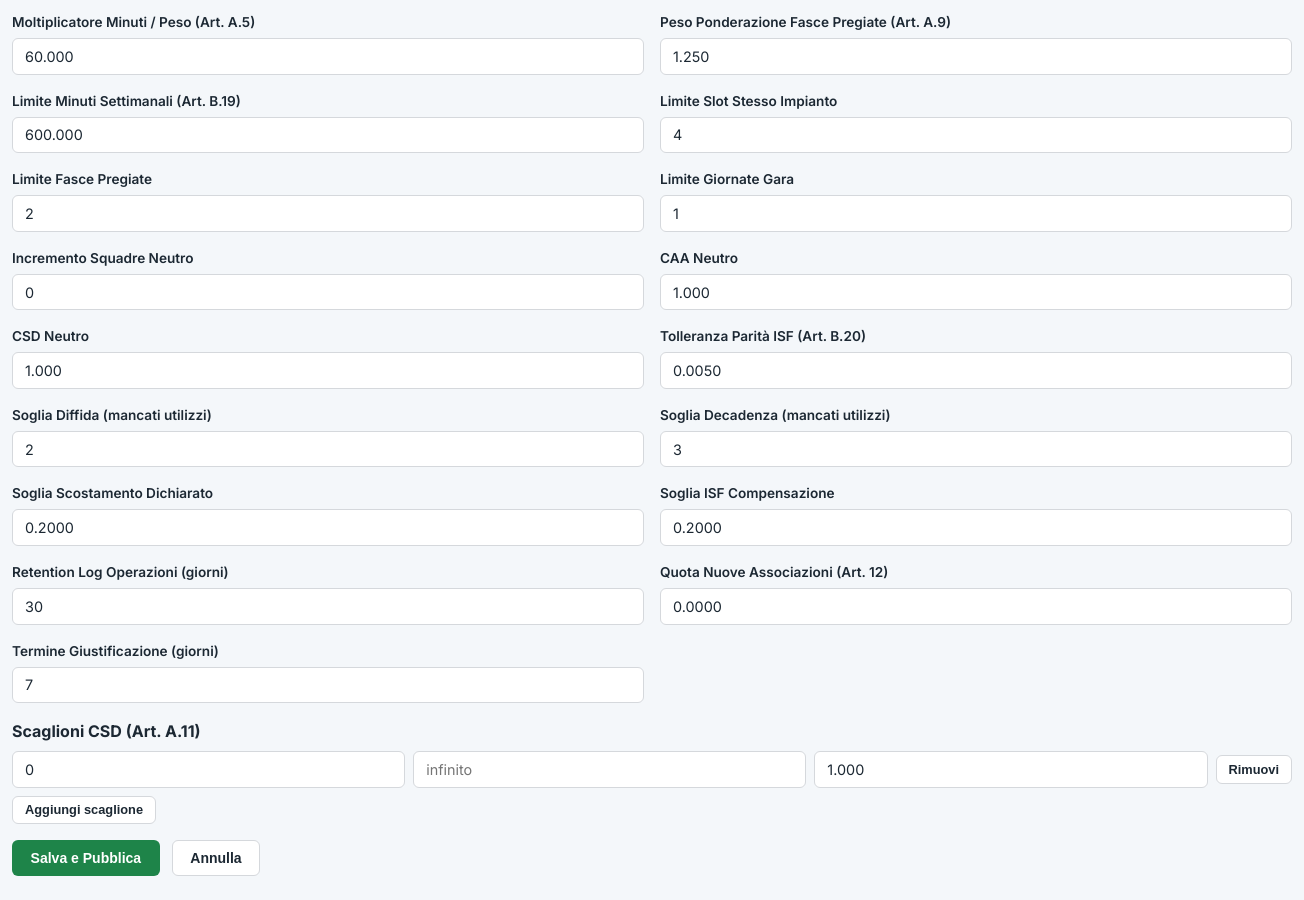
Test: VersioneParametricaForm › errore dal backend mostrato nel form
Click the button "Salva e Pubblica" at [86, 858], box x1=12 y1=840 x2=160 y2=876
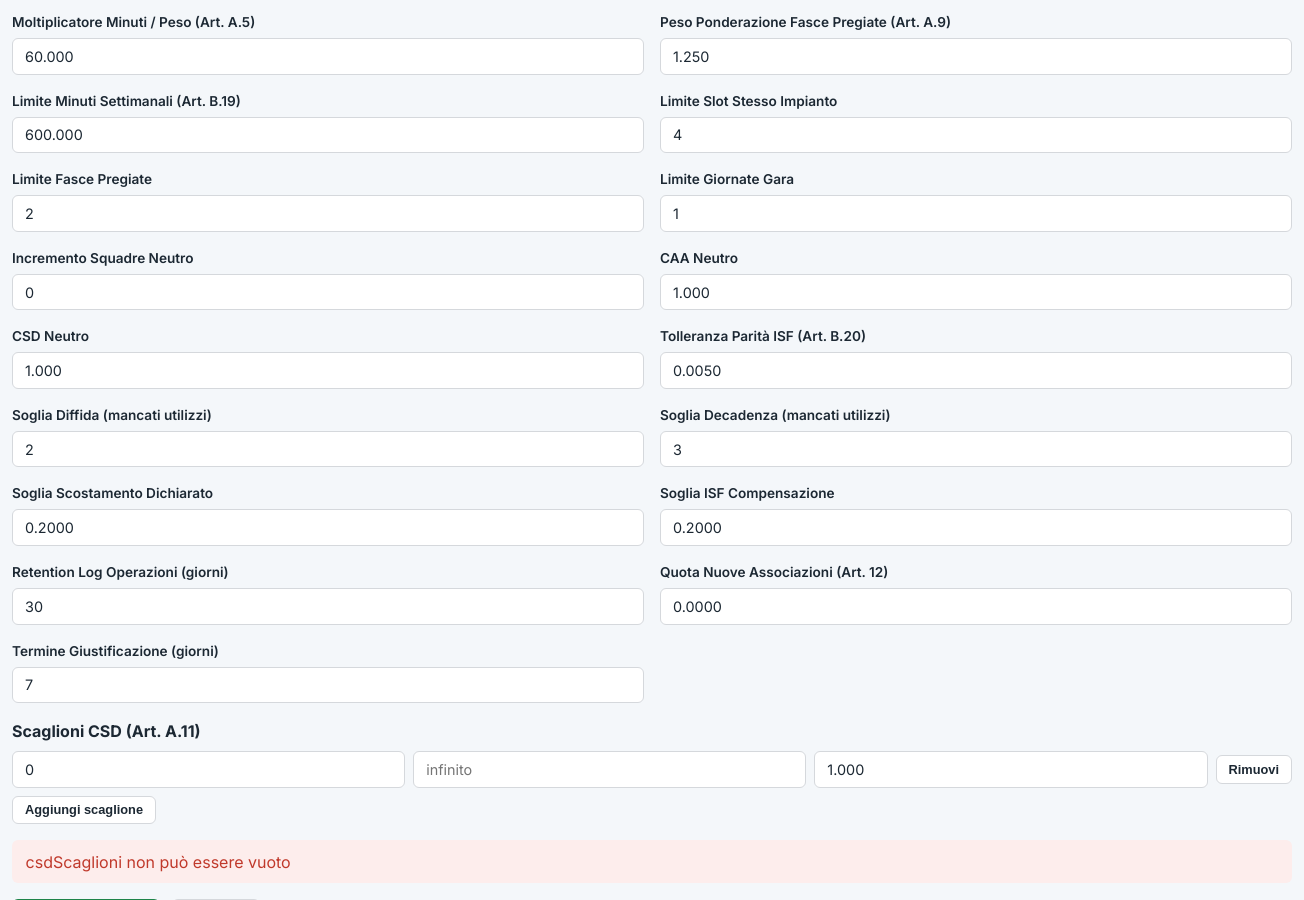
Expected: the text "csdScaglioni non può essere vuoto" is shown, x1=12 y1=840 x2=1292 y2=883
